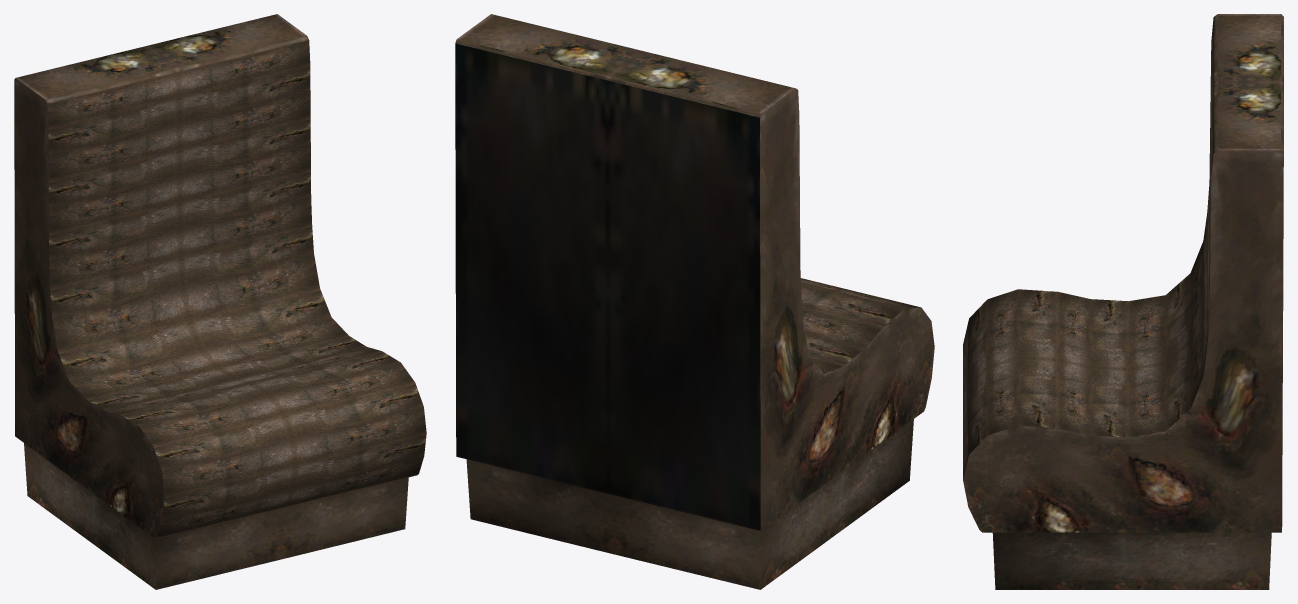
Rendered from thm_frn_chair_s03_l0.fbx.
3 renders of one model, left to right at view 1: azimuth 30°, elevation 25°; view 2: azimuth 150°, elevation 25°; view 3: azimuth 270°, elevation 25°, orthographic. The views are drawn at different scales.
Visible parts, largest first — view 1: mesh_node; view 2: mesh_node; view 3: mesh_node.
Part boxes in pixels (bbox=[...]): mesh_node: bbox=[14, 14, 426, 589]; mesh_node: bbox=[455, 14, 934, 589]; mesh_node: bbox=[963, 14, 1283, 589].
Size of the model in its own units: 0.7254 by 1.1 by 0.7214.
